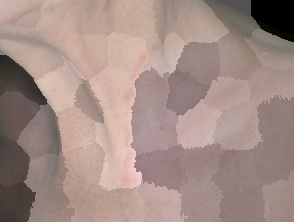vitiligo: (92, 0, 286, 221)
